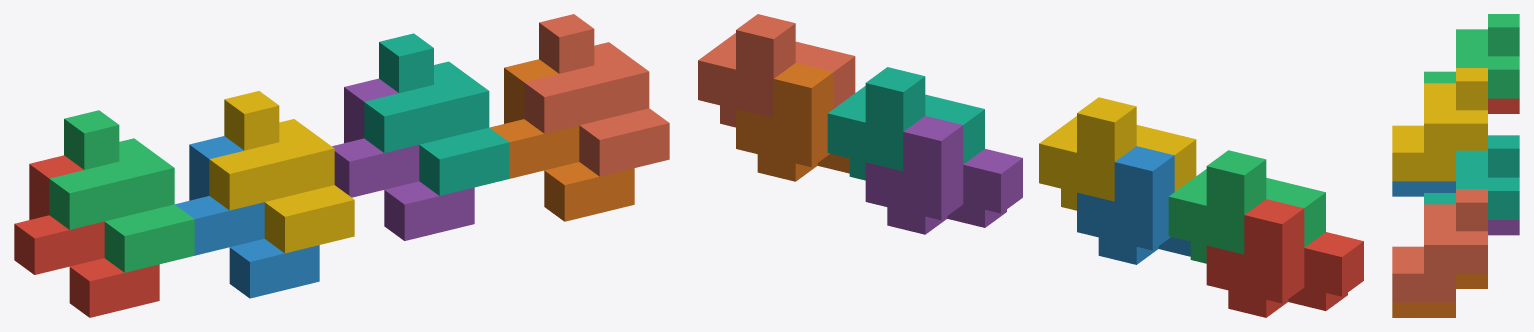
File: tiling.obj
The picture shows the model from 3 angles, left to right: view 1: azimuth 30°, elevation 25°; view 2: azimuth 150°, elevation 25°; view 3: azimuth 270°, elevation 25°; orthographic projection. The views are drawn at different scales.
Visible parts, largest first — view 1: copy_1_domain_4, copy_1_domain_3, copy_1_domain_8, copy_1_domain_7, copy_1_domain_1, copy_1_domain_5, copy_1_domain_2, copy_1_domain_6; view 2: copy_1_domain_1, copy_1_domain_5, copy_1_domain_3, copy_1_domain_7, copy_1_domain_4, copy_1_domain_8, copy_1_domain_2, copy_1_domain_6; view 3: copy_1_domain_8, copy_1_domain_4, copy_1_domain_3, copy_1_domain_7, copy_1_domain_6, copy_1_domain_2, copy_1_domain_1, copy_1_domain_5.
Part boxes in pixels (x1,y1,x2,y2): copy_1_domain_4: (209,91,354,253); copy_1_domain_3: (49,110,194,272); copy_1_domain_8: (524,14,669,176); copy_1_domain_7: (364,33,509,195); copy_1_domain_1: (14,155,159,317); copy_1_domain_5: (332,78,474,240); copy_1_domain_2: (175,136,319,298); copy_1_domain_6: (489,59,634,221); copy_1_domain_1: (1206,199,1363,317); copy_1_domain_5: (865,116,1022,234); copy_1_domain_3: (1168,150,1325,263); copy_1_domain_7: (827,67,984,180); copy_1_domain_4: (1039,97,1196,210); copy_1_domain_8: (698,14,855,127); copy_1_domain_2: (1077,146,1190,264); copy_1_domain_6: (736,63,849,181); copy_1_domain_8: (1392,189,1487,302); copy_1_domain_4: (1392,68,1487,181); copy_1_domain_3: (1424,14,1519,98); copy_1_domain_7: (1424,135,1519,219); copy_1_domain_6: (1392,273,1487,317); copy_1_domain_2: (1392,181,1455,196); copy_1_domain_1: (1488,98,1519,113); copy_1_domain_5: (1488,220,1519,235).
Bounding box in the file's own units: 17 × 4 × 4.
